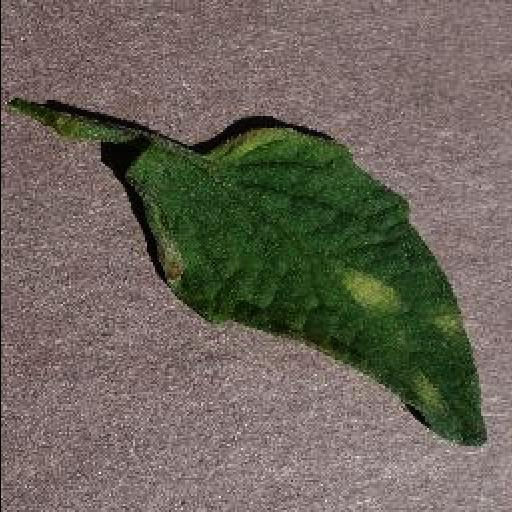disease_tomato: (126, 124, 486, 446)
